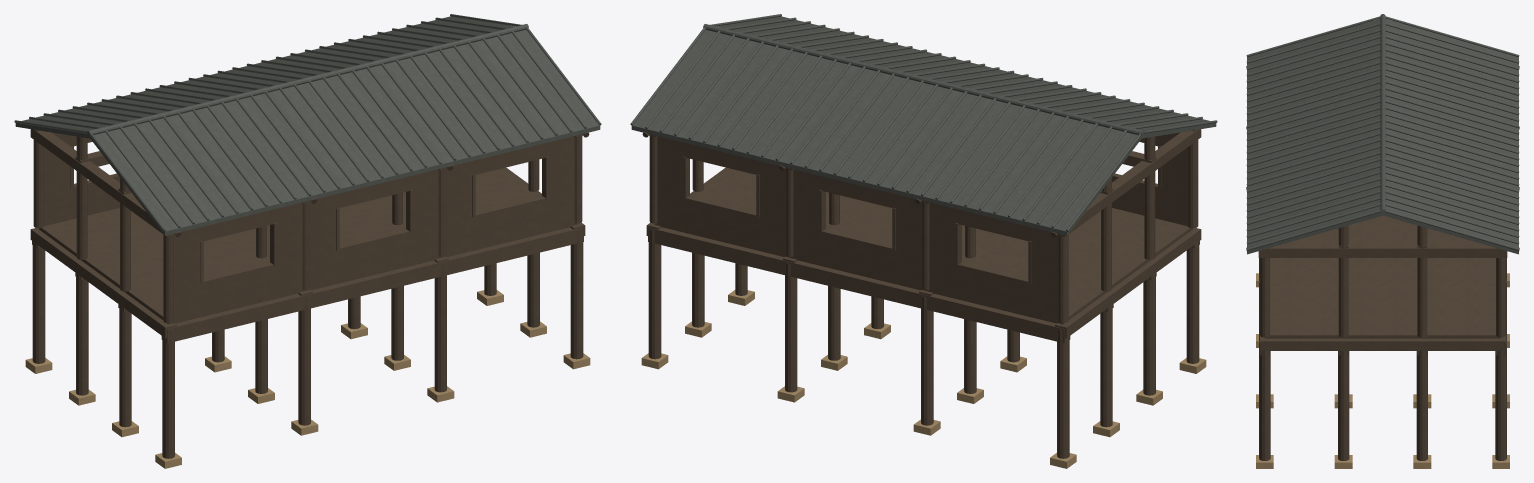
File: gallery-A-LOD0.glb
The picture shows the model from 3 angles, left to right: view 1: azimuth 30°, elevation 25°; view 2: azimuth 150°, elevation 25°; view 3: azimuth 270°, elevation 25°; orthographic projection. The views are drawn at different scales.
Visible parts, largest first — view 1: gallery-A-static_timber, gallery-A-static_tile, gallery-A-static_earth; view 2: gallery-A-static_timber, gallery-A-static_tile, gallery-A-static_earth; view 3: gallery-A-static_tile, gallery-A-static_timber, gallery-A-static_earth.
Boxes of the visible parts, left/top/right/bottom form: gallery-A-static_timber: left=30, top=129, right=589, bottom=458; gallery-A-static_tile: left=14, top=14, right=601, bottom=235; gallery-A-static_earth: left=25, top=290, right=590, bottom=468; gallery-A-static_timber: left=642, top=129, right=1201, bottom=458; gallery-A-static_tile: left=630, top=14, right=1217, bottom=235; gallery-A-static_earth: left=641, top=290, right=1206, bottom=468; gallery-A-static_tile: left=1246, top=14, right=1519, bottom=254; gallery-A-static_timber: left=1246, top=66, right=1519, bottom=460; gallery-A-static_earth: left=1256, top=273, right=1509, bottom=468.
Size of the model in its own units: 12.9 by 8.1 by 7.65.
3 materials, 3 textured.
